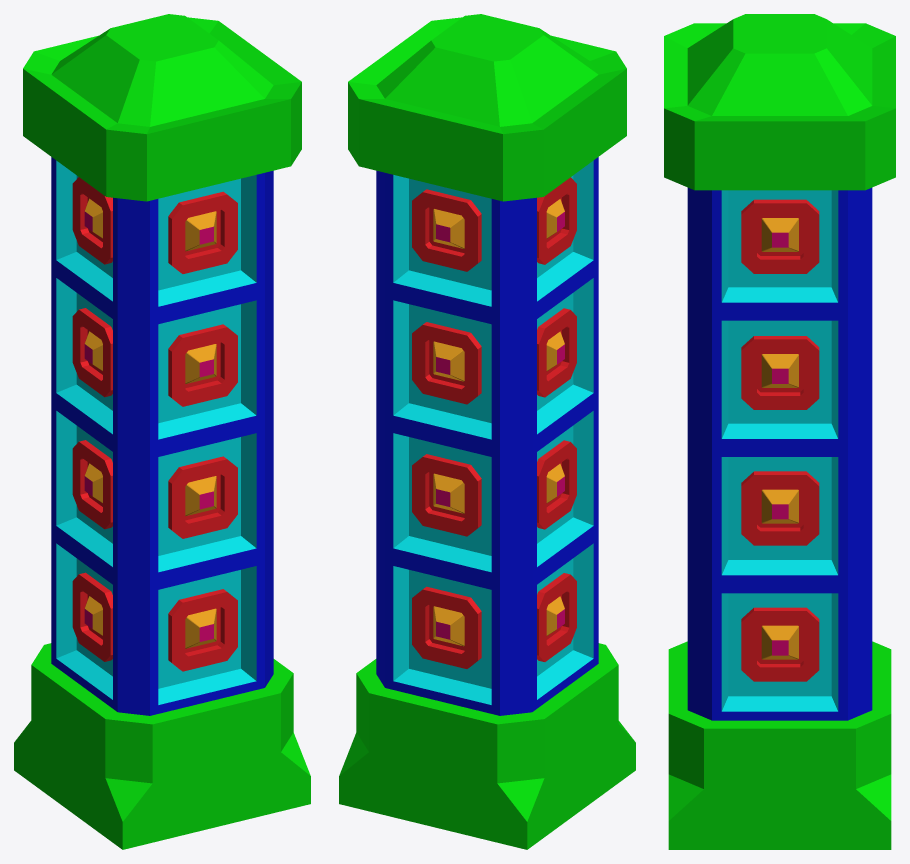
File: FirePillarUVID.fbx
The picture shows the model from 3 angles, left to right: view 1: azimuth 30°, elevation 25°; view 2: azimuth 150°, elevation 25°; view 3: azimuth 270°, elevation 25°; orthographic projection. The views are drawn at different scales.
Parts seen in each view (by area): view 1: Pillar, FireShooter.016, FireShooter.008, FireShooter.009, FireShooter.007, FireShooter.010, FireShooter.012, FireShooter.011, FireShooter.002; view 2: Pillar, FireShooter.006, FireShooter.005, FireShooter.001, FireShooter.004, FireShooter.011, FireShooter.012, FireShooter.010, FireShooter.002; view 3: Pillar, FireShooter.003, FireShooter.015, FireShooter.013, FireShooter.014.
Part boxes in pixels (x1,y1,x2,y2): Pillar: (14, 14, 310, 849); FireShooter.016: (168, 589, 237, 671); FireShooter.008: (168, 456, 237, 538); FireShooter.009: (168, 324, 237, 406); FireShooter.007: (168, 191, 237, 273); FireShooter.010: (72, 572, 112, 661); FireShooter.012: (72, 440, 112, 529); FireShooter.011: (72, 308, 112, 397); FireShooter.002: (72, 177, 112, 264); Pillar: (339, 14, 635, 849); FireShooter.006: (412, 454, 481, 536); FireShooter.005: (412, 322, 481, 404); FireShooter.001: (412, 189, 481, 271); FireShooter.004: (412, 586, 481, 668); FireShooter.011: (537, 308, 576, 397); FireShooter.012: (537, 440, 576, 529); FireShooter.010: (537, 573, 576, 661); FireShooter.002: (537, 177, 576, 264); Pillar: (664, 14, 895, 849); FireShooter.003: (741, 199, 819, 273); FireShooter.015: (741, 471, 819, 545); FireShooter.013: (741, 607, 819, 681); FireShooter.014: (741, 336, 819, 409).
Bounding box in the file's own units: 208 × 761 × 208.
